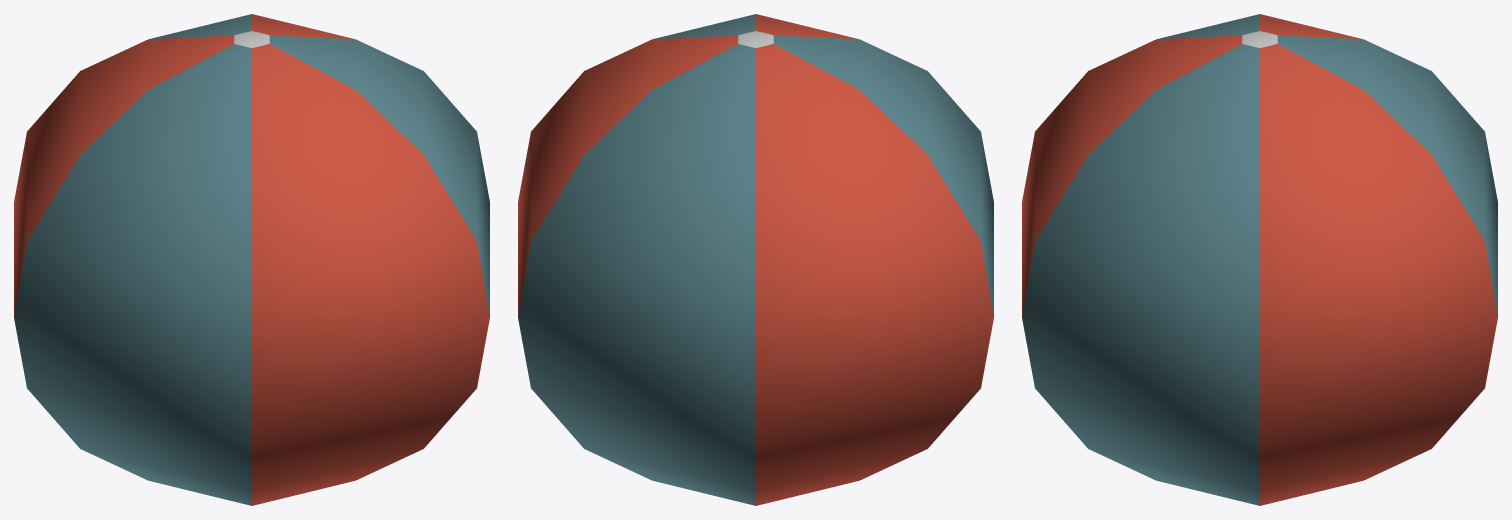
Rendered from SM_Ball_01.fbx.
The picture shows the model from 3 angles, left to right: view 1: azimuth 30°, elevation 25°; view 2: azimuth 150°, elevation 25°; view 3: azimuth 270°, elevation 25°; orthographic projection.
Visible parts, largest first — view 1: SM_Ball_01; view 2: SM_Ball_01; view 3: SM_Ball_01.
Boxes of the visible parts, x1,y1,x2,y2 form: SM_Ball_01: (14,14,489,505); SM_Ball_01: (518,14,993,505); SM_Ball_01: (1022,14,1497,505).
Bounding box in the file's own units: 35.46 × 31.39 × 30.71.
